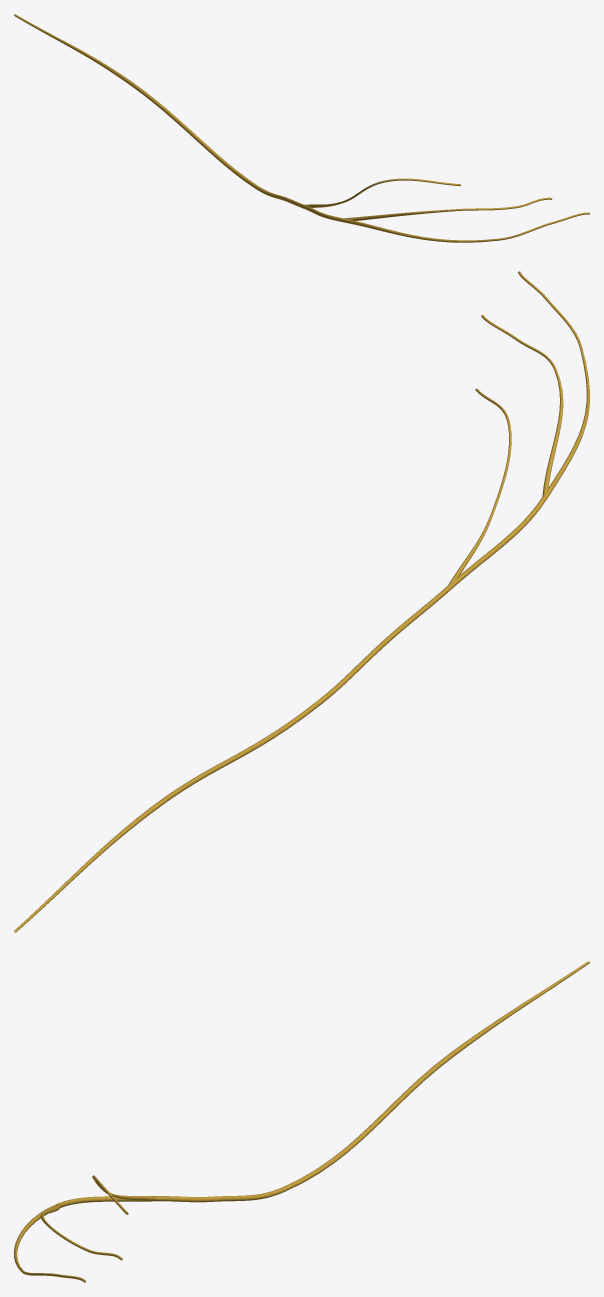
The picture shows the model from 3 angles, top to bottom: view 1: azimuth 30°, elevation 25°; view 2: azimuth 150°, elevation 25°; view 3: azimuth 330°, elevation 25°; orthographic projection. The views are drawn at different scales.
Parts seen in each view (by area): view 1: 右侧股神经; view 2: 右侧股神经; view 3: 右侧股神经.
Boxes of the visible parts, x1=… form: 右侧股神经: x1=14, y1=14, x2=589, y2=242; 右侧股神经: x1=14, y1=271, x2=589, y2=932; 右侧股神经: x1=14, y1=961, x2=589, y2=1282.
Size of the model in its own units: 0.1138 by 0.1076 by 0.6961.
